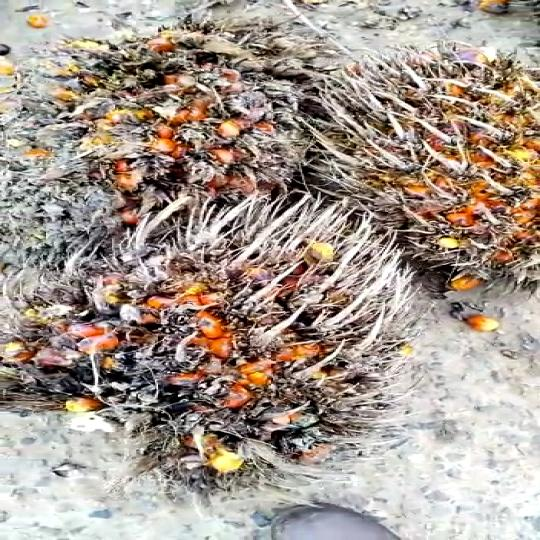terlalu masak: (0, 209, 453, 472), (40, 25, 331, 207)
